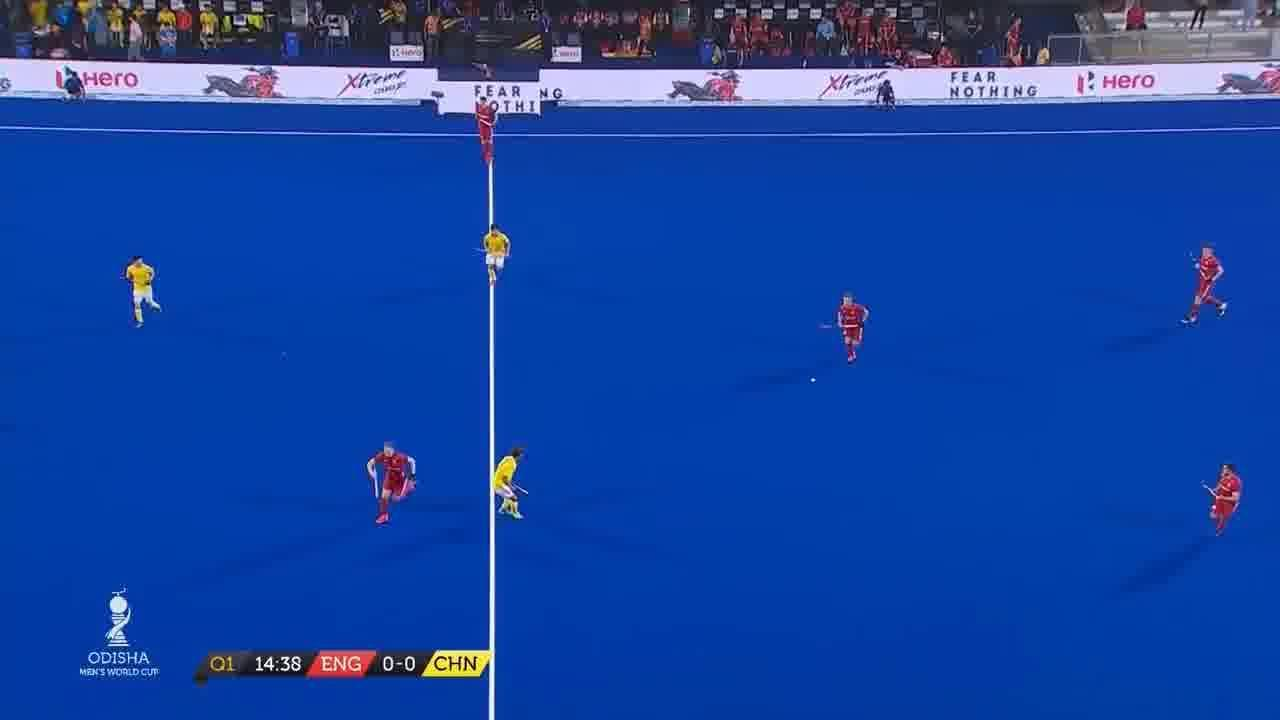ball: (809, 374, 820, 390)
